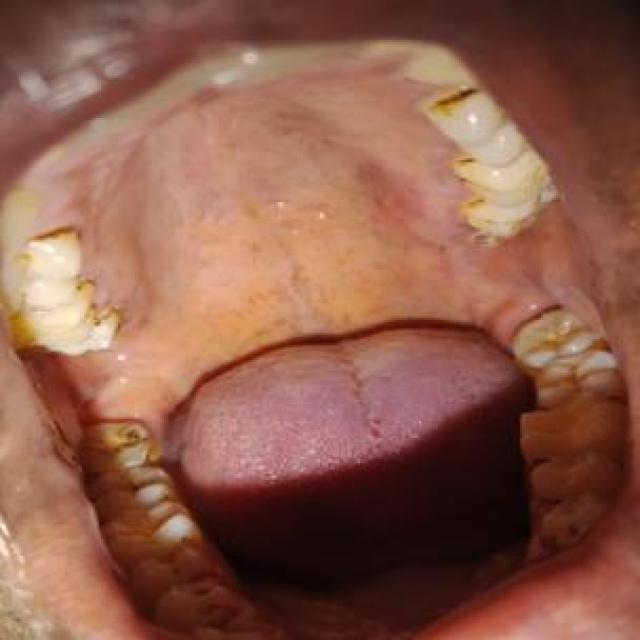processing_area: (48, 76, 615, 487)
